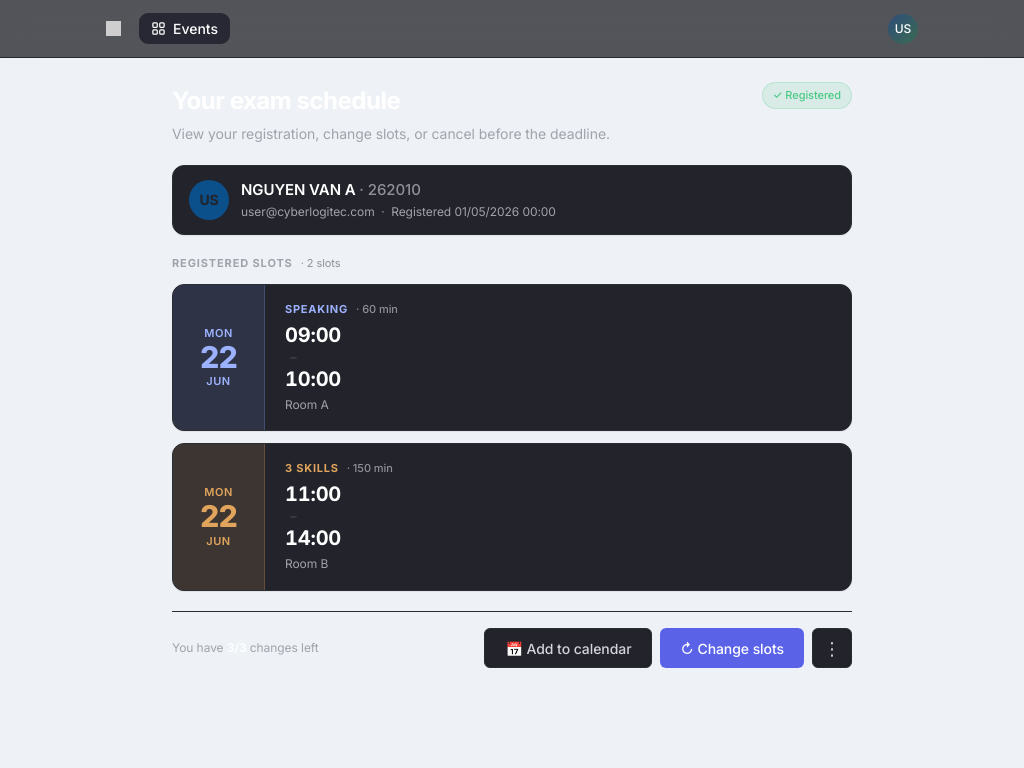
Test case: Booking navigation — step-1 form retention › NAV-3: after cancelling, the auto-returned Step 1 still shows the same identity
Note: ⋮ Options → 🗑 Cancel registration → confirm dialog
Step 1. Click the button named "Options" → x=832, y=648, box x1=812 y1=628 x2=852 y2=668
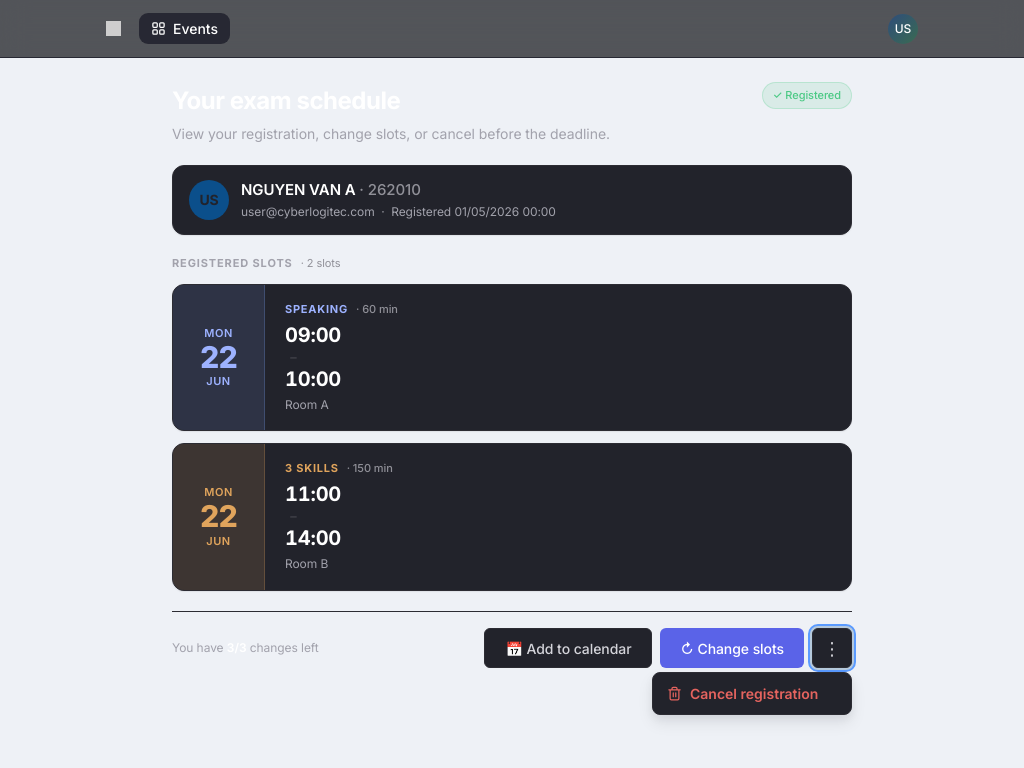
Step 2. Click the menu item "Cancel registration" → x=752, y=694, box x1=657 y1=677 x2=847 y2=710
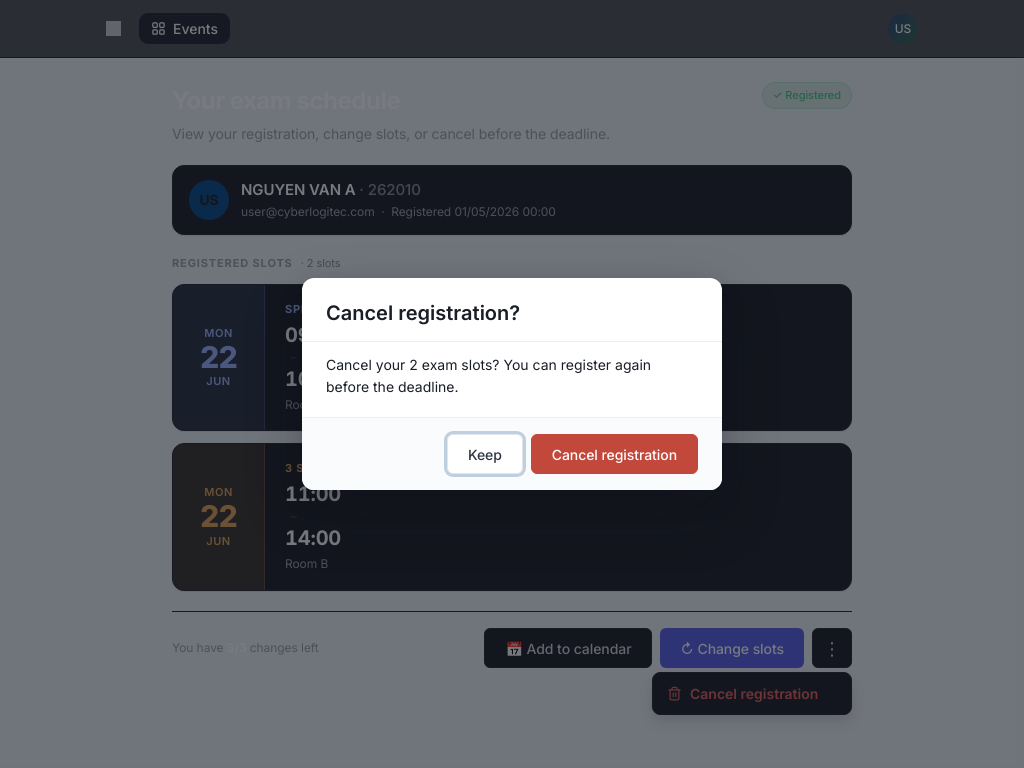
Step 3. Click the button "Cancel registration" → x=614, y=454, box x1=531 y1=434 x2=698 y2=474
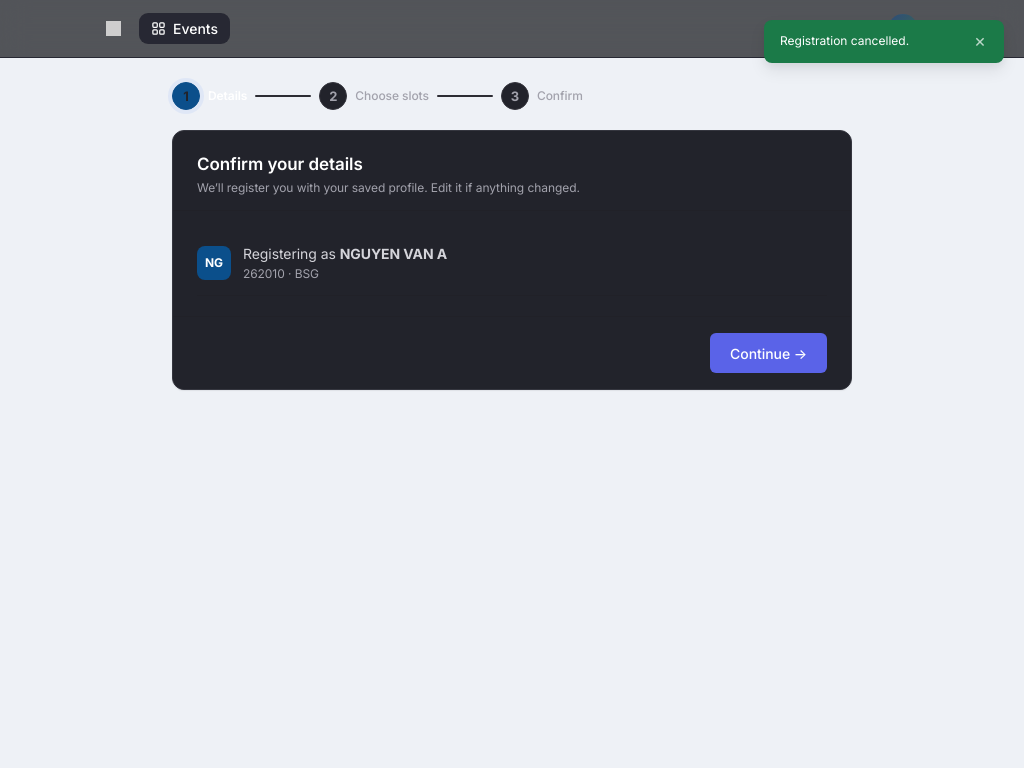
Expected: the text "Confirm your details" is shown, x1=197 y1=154 x2=363 y2=174
Expected: the text "NGUYEN VAN A" is shown, x1=340 y1=245 x2=447 y2=262
Expected: the text "262010 · BSG" is shown, x1=243 y1=266 x2=319 y2=281
